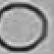no answer: (0, 2, 47, 52)
